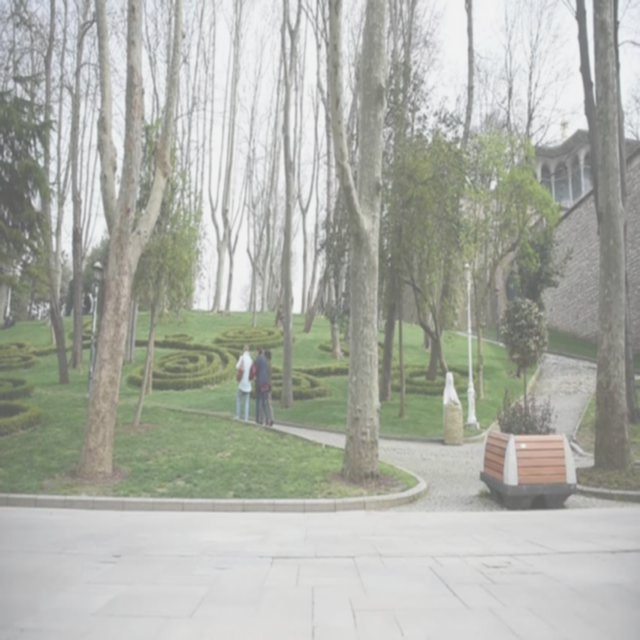pessoa: (233, 344, 255, 424), (253, 346, 271, 426), (262, 350, 274, 430)
